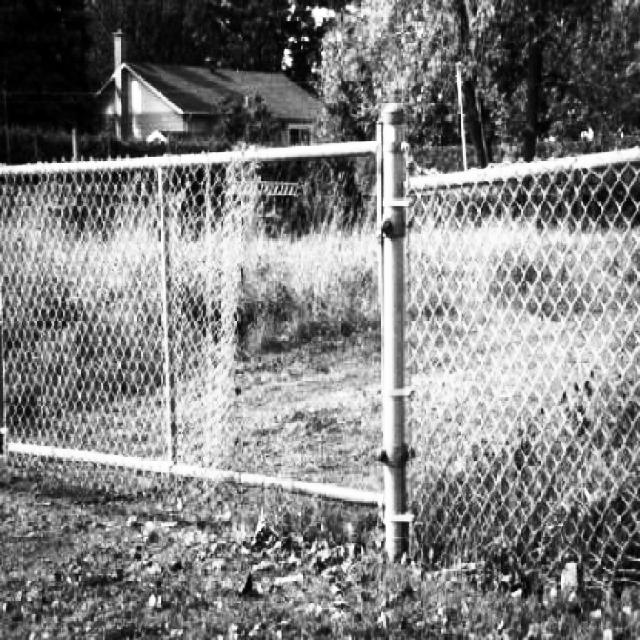anomaly-fence: (141, 85, 444, 584)
